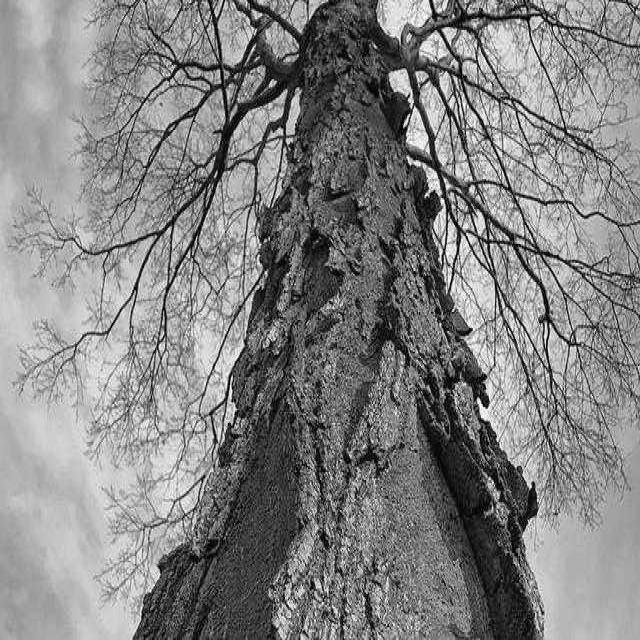Tree: (136, 0, 544, 635)
